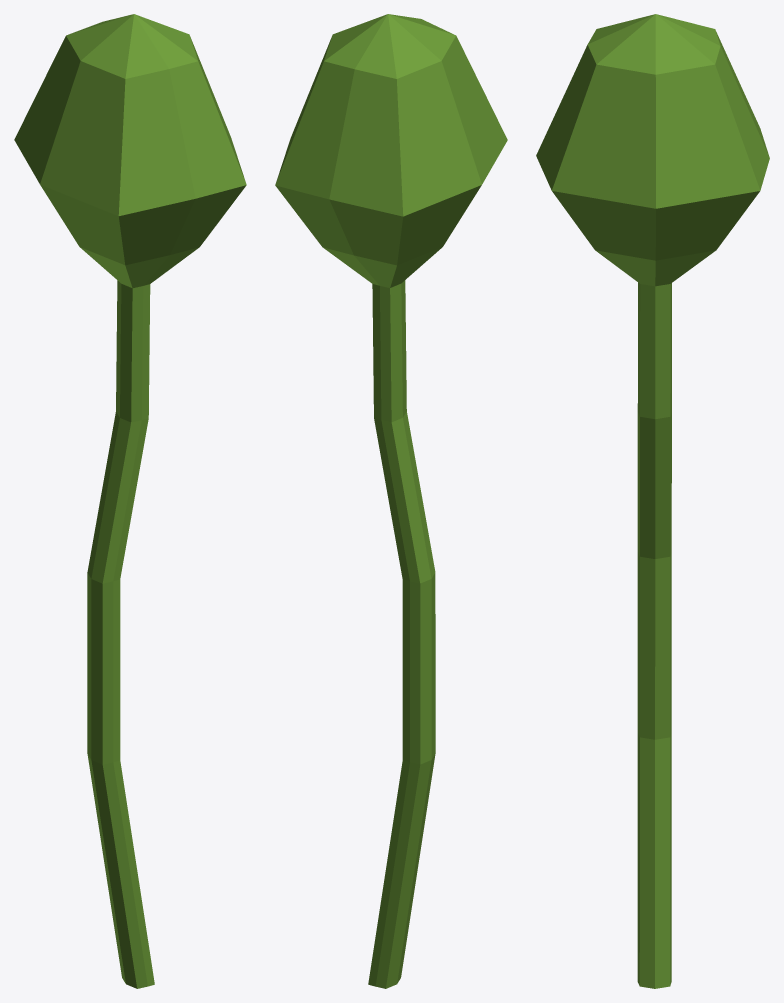
The model's file is SunHairEagleStage2.fbx.
3 renders of one model, left to right at view 1: azimuth 30°, elevation 25°; view 2: azimuth 150°, elevation 25°; view 3: azimuth 270°, elevation 25°, orthographic.
Parts seen in each view (by area): view 1: Cylinder.008; view 2: Cylinder.008; view 3: Cylinder.008.
Boxes of the visible parts, x1,y1,x2,y2 form: Cylinder.008: (14, 14, 246, 988); Cylinder.008: (275, 14, 507, 988); Cylinder.008: (536, 14, 769, 988).
Size of the model in its own units: 33.42 by 162 by 35.44.
